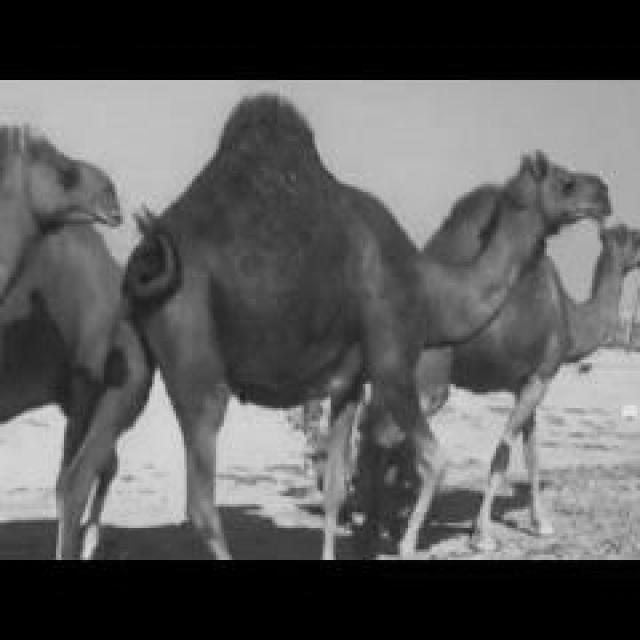Camel: (117, 91, 611, 560), (339, 216, 637, 552), (0, 117, 152, 560)
